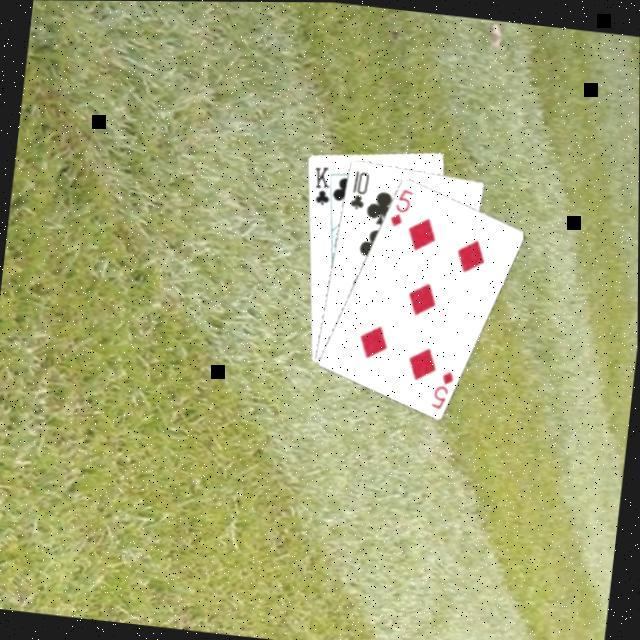10C: (346, 164, 373, 211)
5D: (428, 365, 459, 412), (387, 183, 417, 229)
KC: (308, 161, 341, 211)
